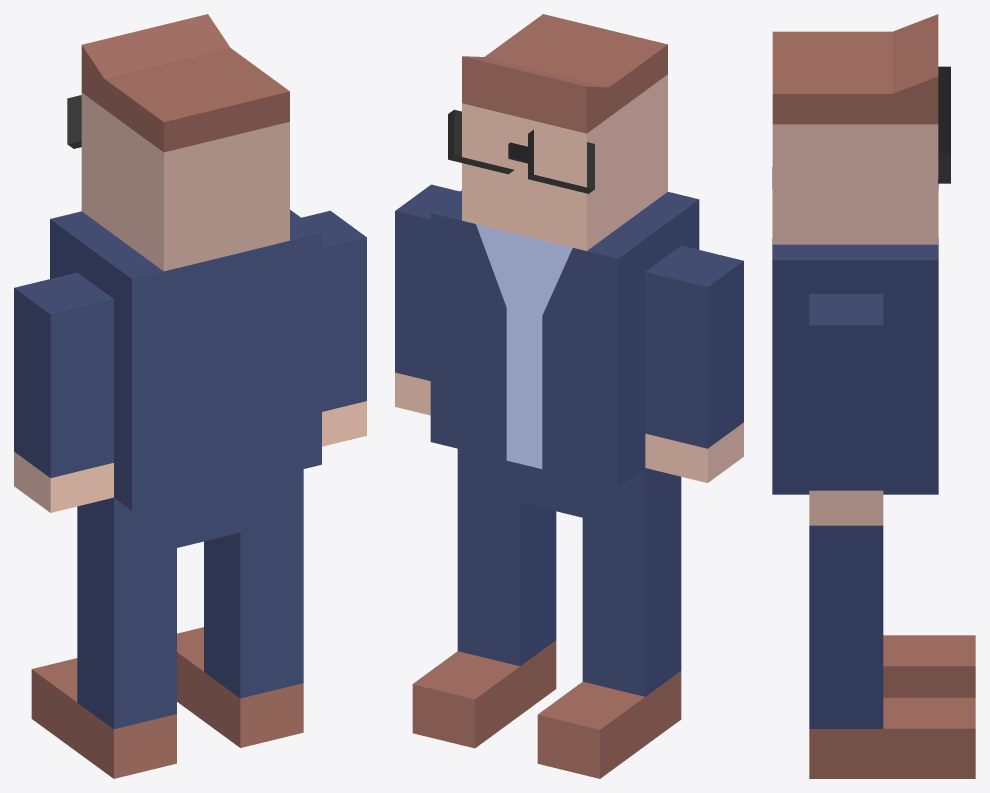
Rendered from sidewalk-headhunter.glb.
The picture shows the model from 3 angles, left to right: view 1: azimuth 30°, elevation 25°; view 2: azimuth 150°, elevation 25°; view 3: azimuth 270°, elevation 25°; orthographic projection. The views are drawn at different scales.
Visible parts, largest first — view 1: UNIT.016, UNIT.020, UNIT.019, UNIT.018, UNIT.017; view 2: UNIT.016, UNIT.020, UNIT.019, UNIT.018, UNIT.017; view 3: UNIT.016, UNIT.019, UNIT.017, UNIT.020.
Boxes of the visible parts, x1,y1,x2,y2 form: UNIT.016: (50,14,321,547); UNIT.020: (31,497,176,778); UNIT.019: (177,469,303,747); UNIT.018: (14,272,113,512); UNIT.017: (301,210,366,446); UNIT.016: (430,14,699,517); UNIT.020: (537,468,681,778); UNIT.019: (412,449,556,748); UNIT.018: (645,245,743,482); UNIT.017: (395,184,459,415); UNIT.016: (772,14,950,494); UNIT.019: (809,525,975,778); UNIT.017: (809,294,883,525); UNIT.020: (883,635,975,697).
Bounding box in the file's own units: 0.7001 × 1.44 × 0.3852.
1 material, 1 textured.
